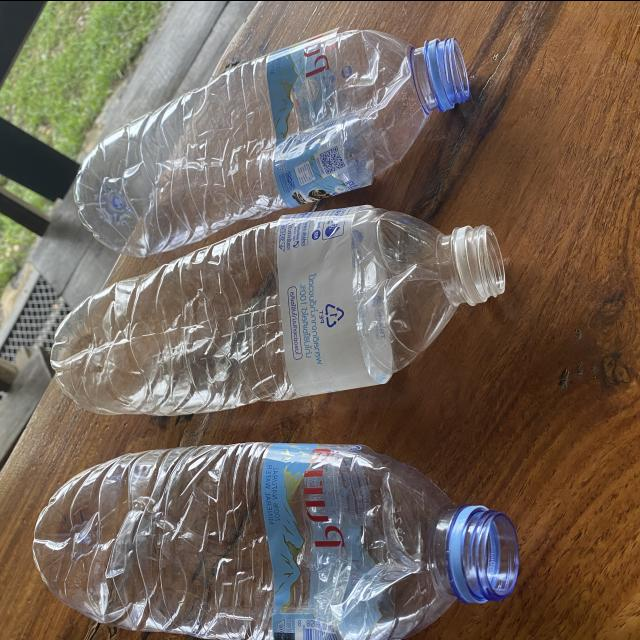plastik: (33, 441, 518, 640), (52, 205, 505, 414), (74, 30, 469, 255)
